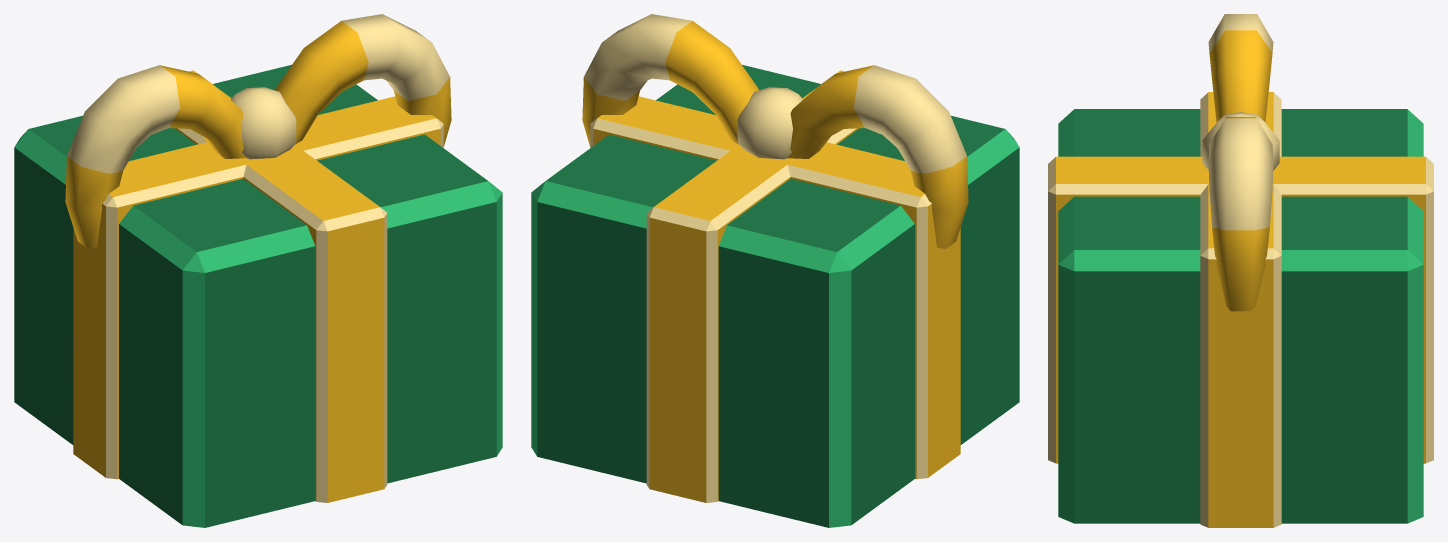
The model's file is Present.fbx.
3 renders of one model, left to right at view 1: azimuth 30°, elevation 25°; view 2: azimuth 150°, elevation 25°; view 3: azimuth 270°, elevation 25°, orthographic.
Visible parts, largest first — view 1: Present; view 2: Present; view 3: Present.
Part boxes in pixels (x1=…): Present: x1=14, y1=14, x2=502, y2=527; Present: x1=531, y1=14, x2=1019, y2=527; Present: x1=1048, y1=14, x2=1433, y2=527.
Bounding box in the file's own units: 2.1 × 2.02 × 1.9.
1 material, 1 textured.
